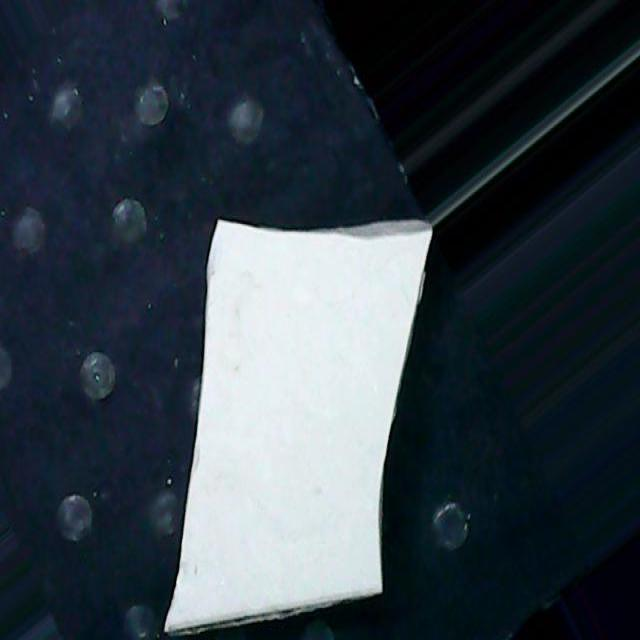-Other waste - ceramic-: (163, 215, 433, 640)
